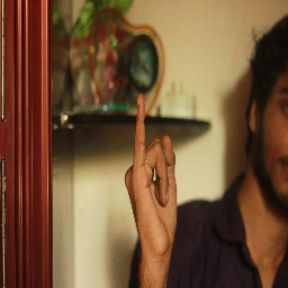I: (115, 91, 183, 257)
